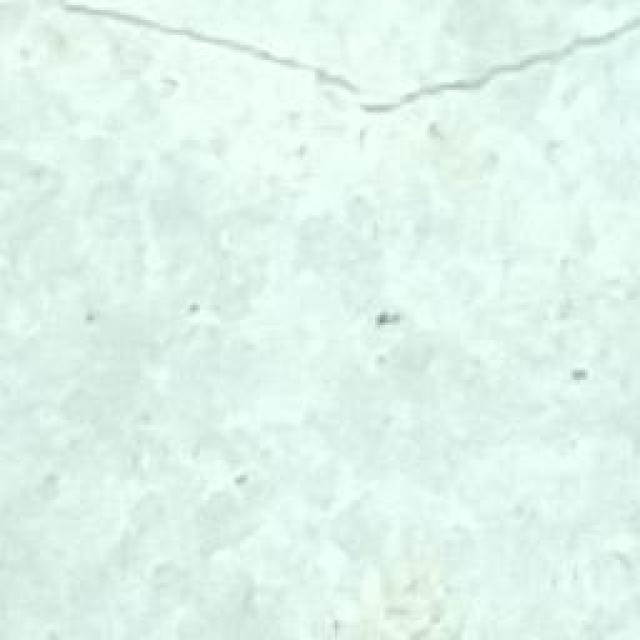Transverse: (13, 0, 640, 120)
